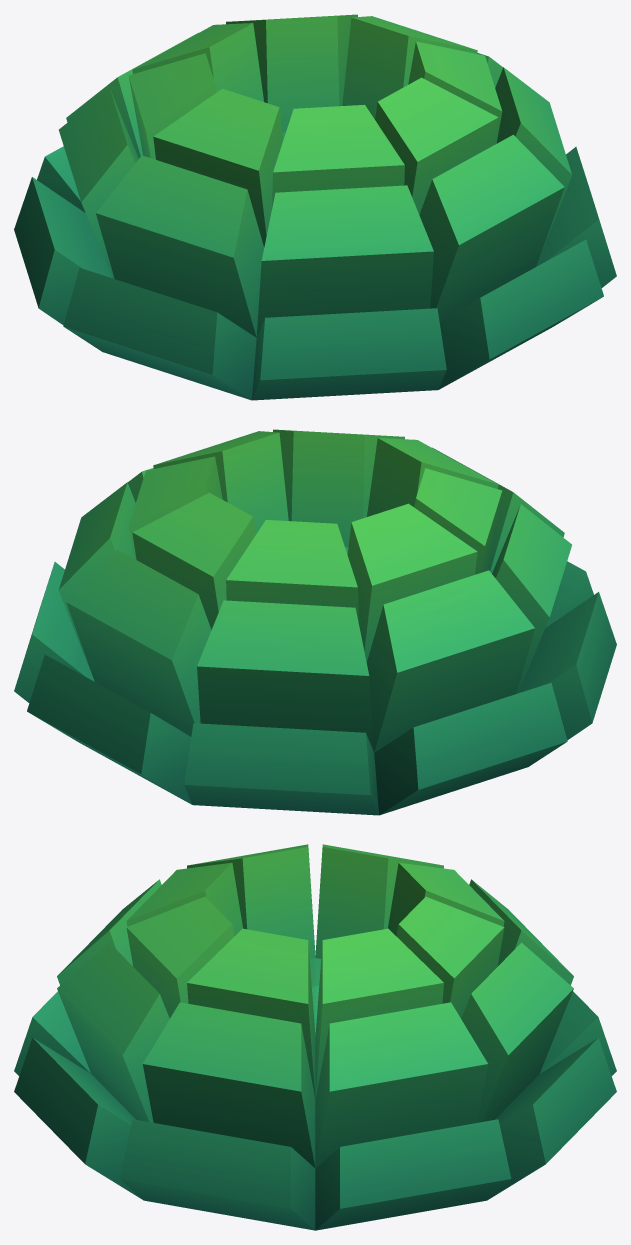
Rendered from anemone_far2.fbx.
3 views of the same model, one above another, from view 1: azimuth 30°, elevation 25°; view 2: azimuth 150°, elevation 25°; view 3: azimuth 270°, elevation 25° (orthographic).
Parts seen in each view (by area): view 1: anemone_far2; view 2: anemone_far2; view 3: anemone_far2.
Part boxes in pixels (box(x1,y1,x2,y2)): anemone_far2: box(14, 14, 616, 400); anemone_far2: box(14, 429, 616, 815); anemone_far2: box(14, 844, 616, 1230).
Size of the model in its own units: 0.025 by 0.0107 by 0.025.
Materials: 1 (1 with a texture image).
